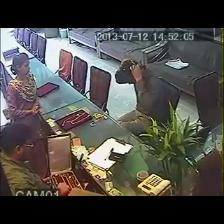person: (7, 53, 46, 177), (115, 59, 166, 135), (0, 123, 50, 191)
